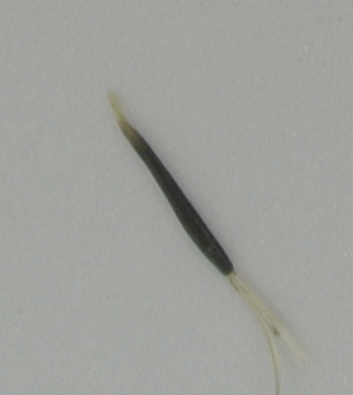เมล็ดดีเรียวยาว: (105, 87, 311, 395)
